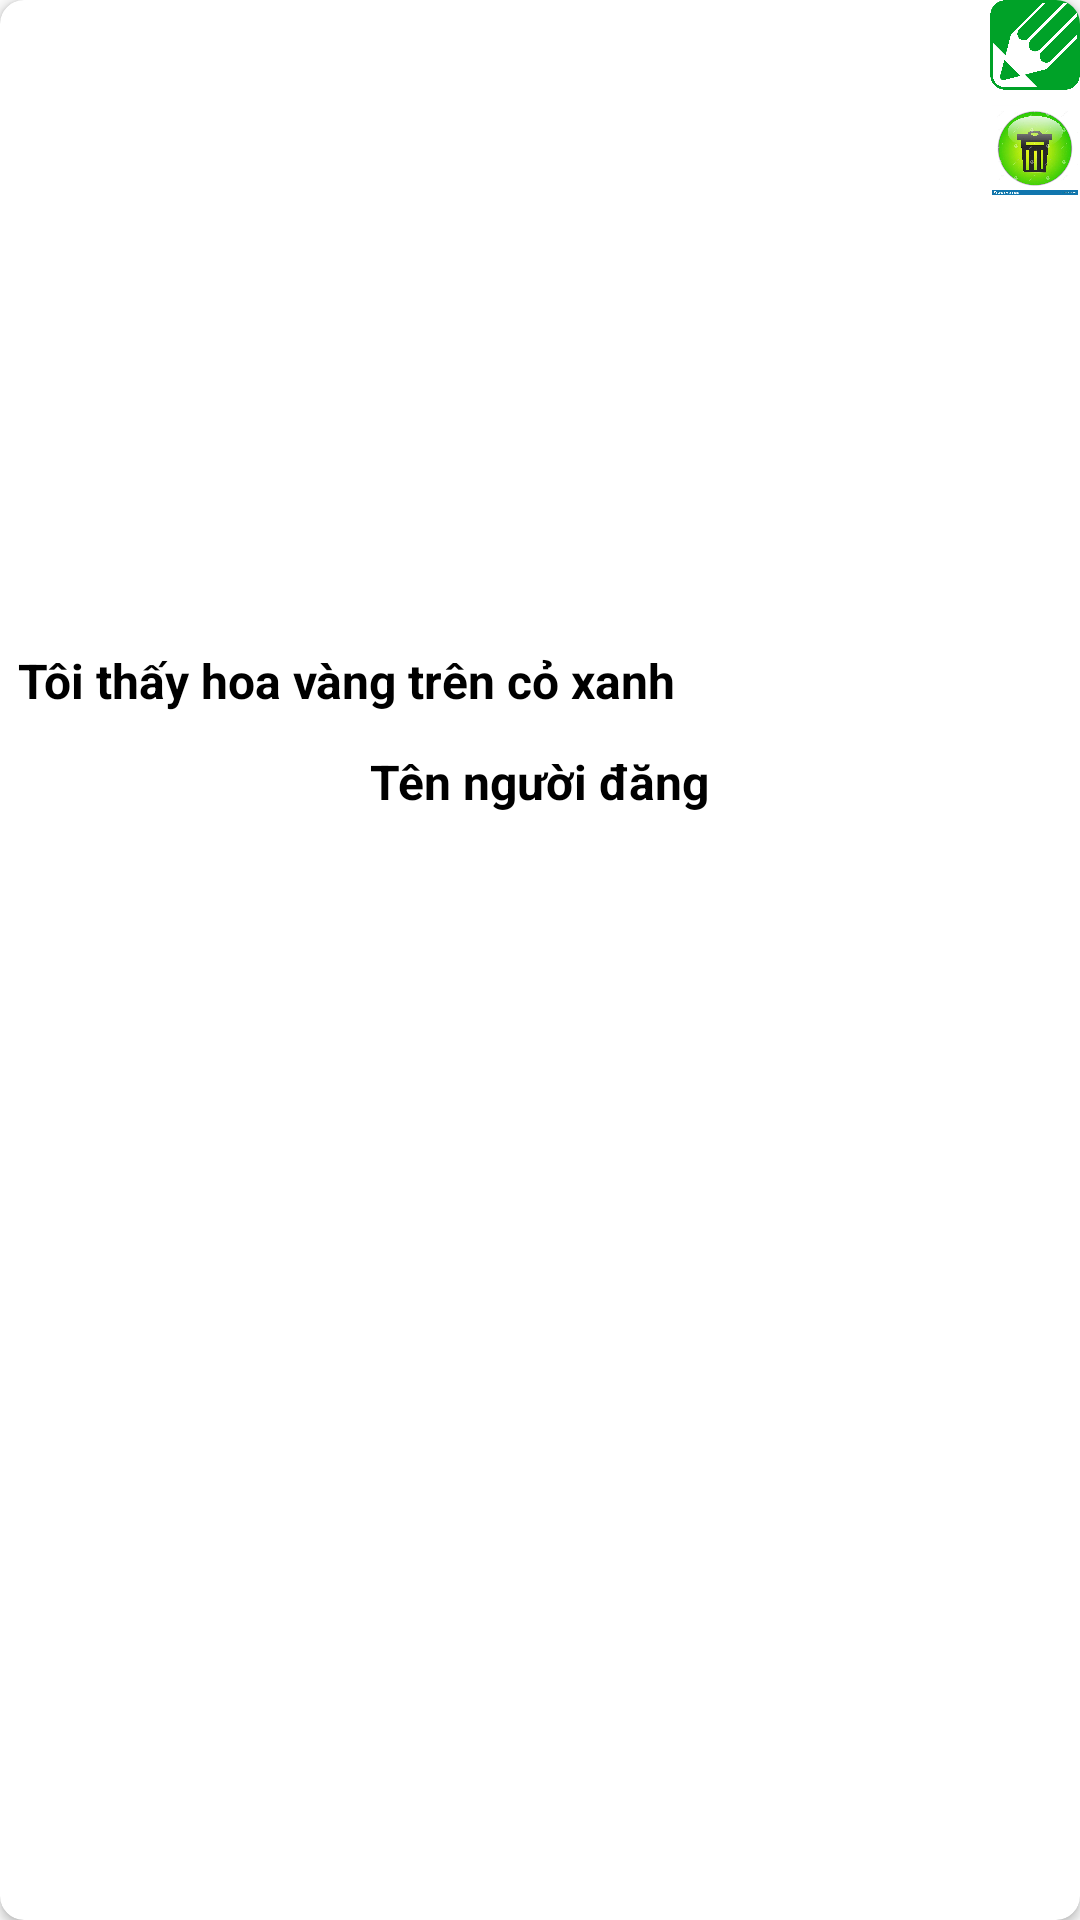

Point at icon controls on the screen. Image size 1080px×1920px, points as [x,y].
delete: [1035,153]
edit: [1035,45]
